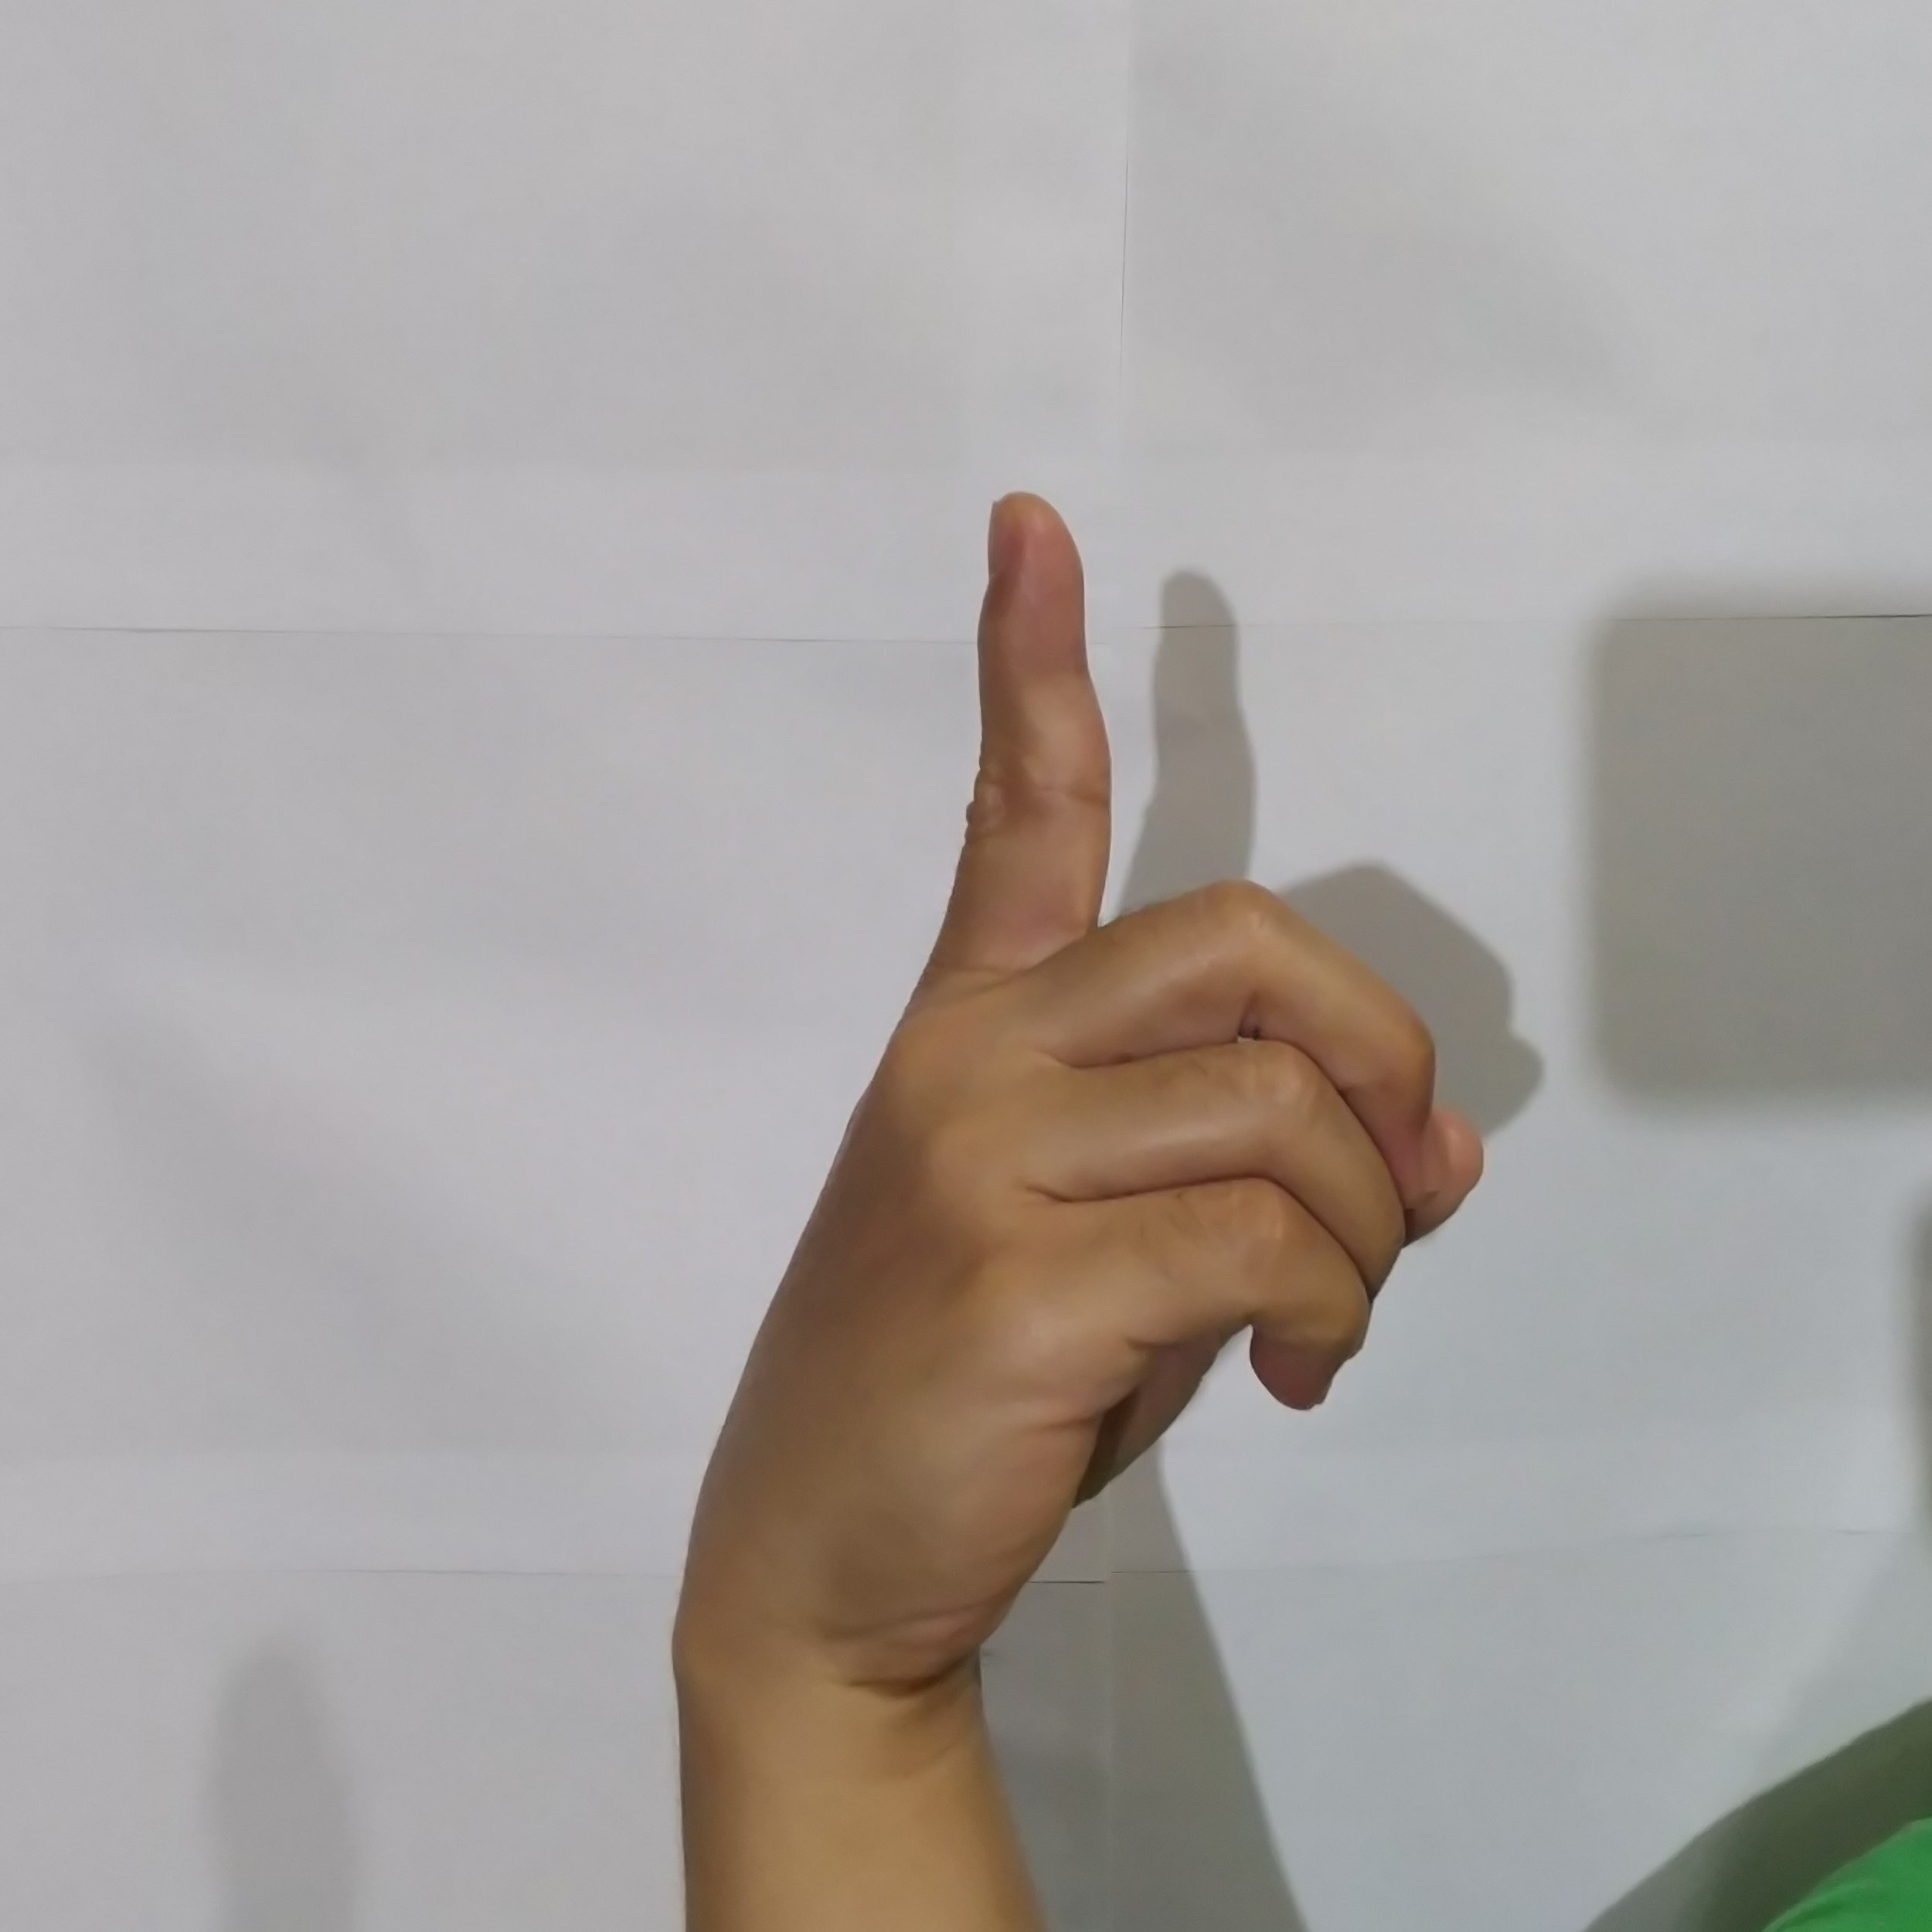D: (713, 458, 1507, 1656)
